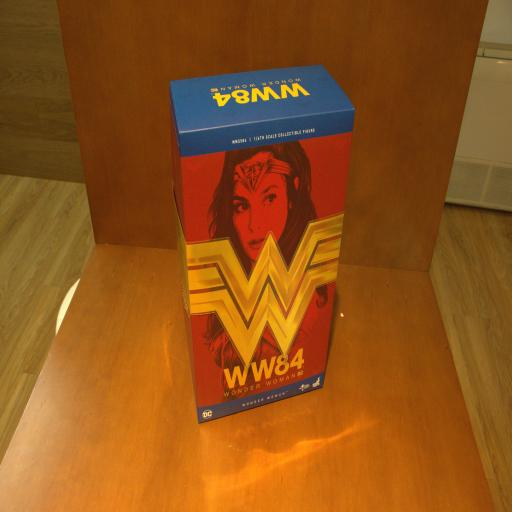WonderWoman: (169, 60, 355, 425)
